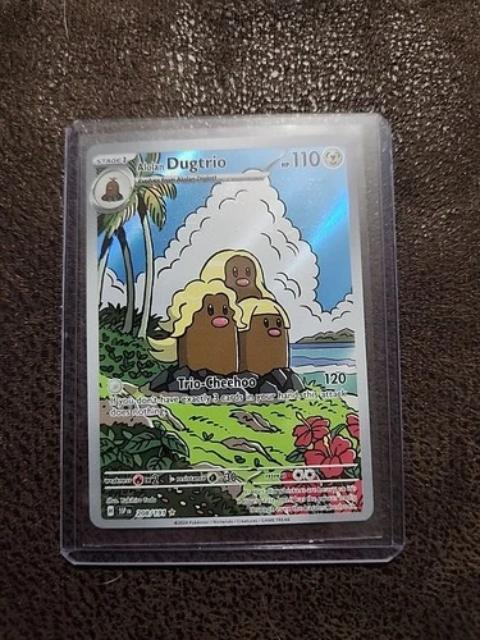Card: (78, 129, 376, 531)
Name: (131, 148, 228, 174)
